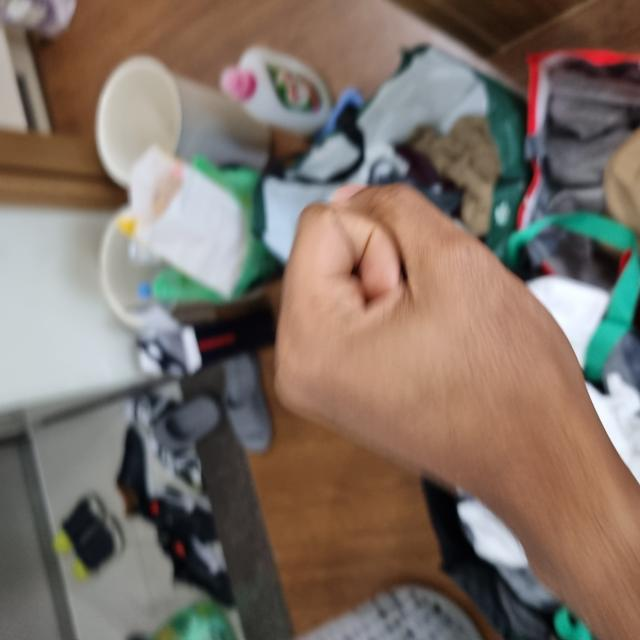Rock: (119, 269, 453, 616)
